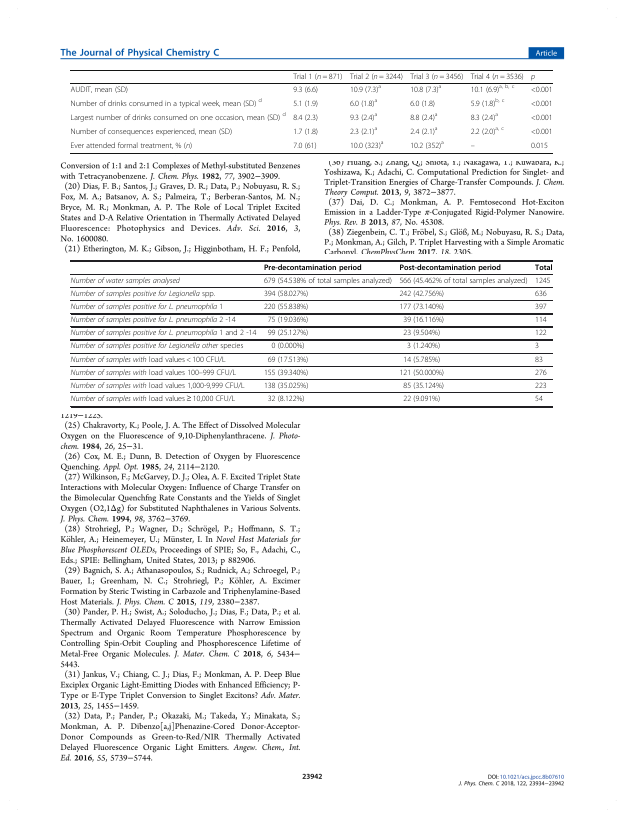borderless: (70, 259, 552, 406), (69, 68, 553, 153)
cell: (70, 111, 287, 123), (70, 97, 263, 109), (70, 381, 246, 391), (70, 329, 257, 338), (70, 368, 237, 378), (70, 315, 236, 325), (70, 394, 236, 404), (70, 127, 233, 137), (70, 342, 244, 351), (70, 302, 224, 312), (70, 289, 216, 299), (70, 355, 226, 364), (263, 276, 393, 286), (398, 276, 528, 286), (70, 141, 193, 151), (70, 276, 181, 286), (398, 263, 502, 272), (263, 263, 362, 272), (70, 85, 129, 95), (470, 83, 515, 95), (349, 72, 404, 81), (409, 72, 464, 81), (470, 72, 525, 81), (398, 289, 445, 299), (398, 302, 445, 312), (398, 368, 445, 378), (263, 289, 309, 299), (263, 302, 309, 312), (263, 368, 309, 378), (263, 381, 309, 391), (292, 72, 343, 81), (409, 139, 445, 151), (402, 315, 445, 325), (402, 381, 445, 391), (267, 315, 309, 325), (470, 97, 505, 109), (470, 125, 505, 137), (349, 139, 384, 151), (349, 83, 382, 95), (409, 83, 442, 95), (402, 394, 441, 404), (267, 394, 305, 404), (267, 329, 309, 338), (267, 355, 309, 364), (402, 329, 441, 338), (402, 355, 441, 364), (349, 97, 378, 109), (349, 111, 378, 123), (409, 111, 438, 123), (470, 111, 499, 123), (349, 125, 378, 137), (409, 125, 438, 137), (270, 342, 305, 351), (406, 342, 441, 351), (292, 85, 319, 95), (292, 99, 319, 109), (409, 99, 436, 109), (292, 113, 319, 123), (292, 127, 319, 137), (292, 141, 317, 151), (530, 85, 553, 95), (530, 99, 553, 109), (530, 113, 553, 123), (530, 127, 553, 137), (530, 141, 549, 151), (534, 263, 553, 272), (534, 276, 551, 286), (534, 289, 548, 299), (534, 302, 548, 312), (534, 315, 548, 325), (534, 368, 548, 378), (534, 381, 548, 391), (534, 329, 548, 338), (534, 394, 544, 404), (534, 355, 544, 364), (534, 342, 540, 351), (530, 74, 536, 81), (470, 145, 476, 149)
